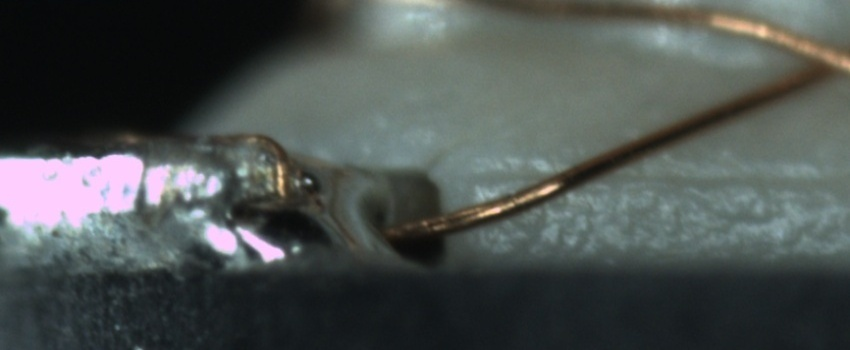CL: (768, 24, 849, 95)
DL: (473, 146, 849, 208)
TE: (114, 126, 300, 198)
